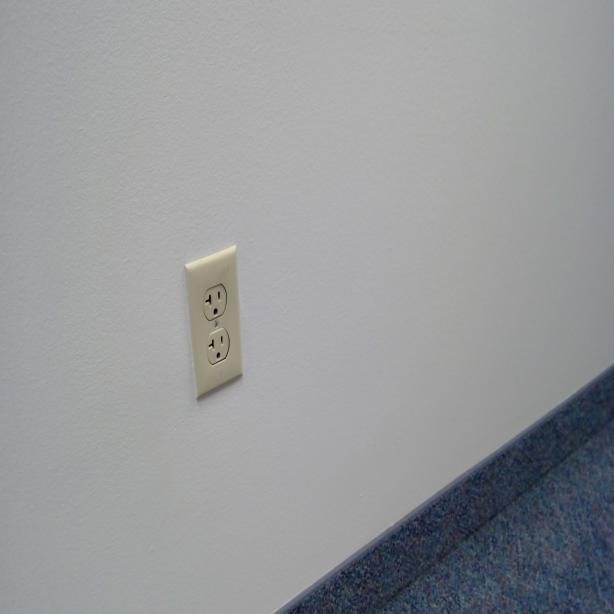typeb: (202, 283, 228, 320), (206, 332, 228, 368)
